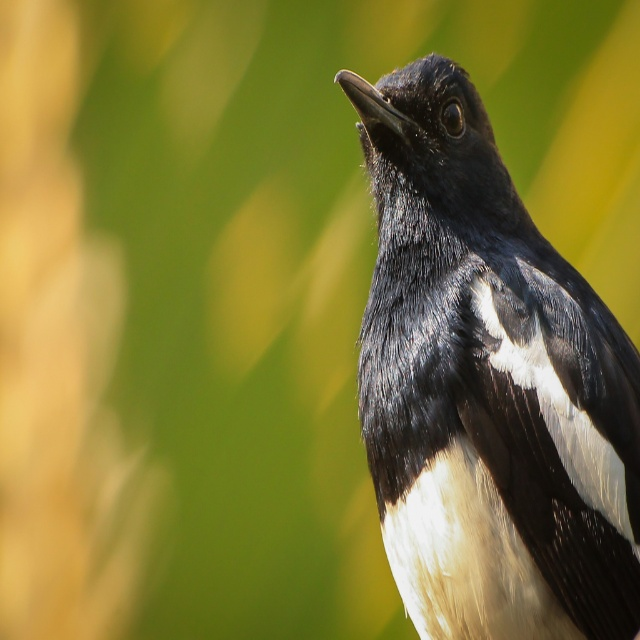Magpie: (321, 52, 640, 640)
